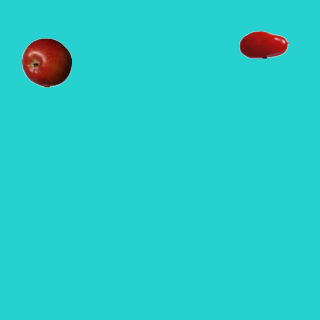Apple Braeburn: (21, 37, 71, 87)
Tomato 2: (238, 19, 288, 69)
